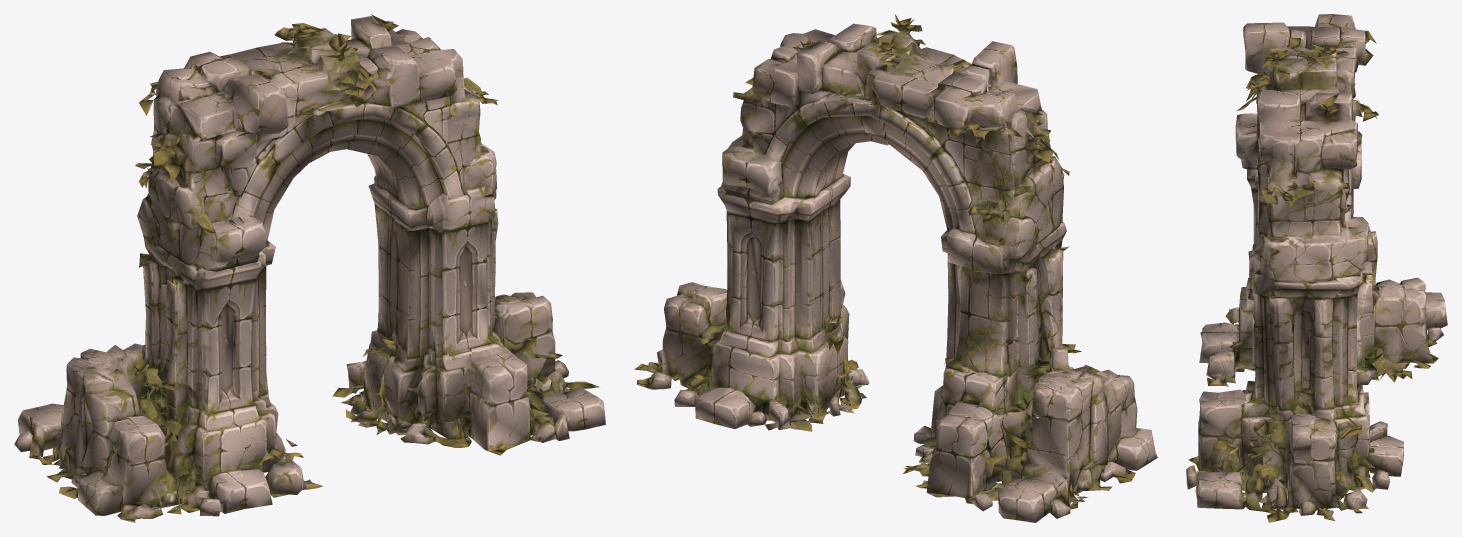
Rendered from SM_RuinArch.fbx.
3 views of the same model, side by side, from view 1: azimuth 30°, elevation 25°; view 2: azimuth 150°, elevation 25°; view 3: azimuth 270°, elevation 25° (orthographic). The views are drawn at different scales.
Visible parts, largest first — view 1: Mesh_0; view 2: Mesh_0; view 3: Mesh_0.
Part boxes in pixels (box(x1,y1,x2,y2)): Mesh_0: box(14, 14, 605, 522); Mesh_0: box(634, 14, 1157, 522); Mesh_0: box(1186, 14, 1447, 522).
Bounding box in the file's own units: 185 × 140 × 91.27.
1 material, 1 textured.
